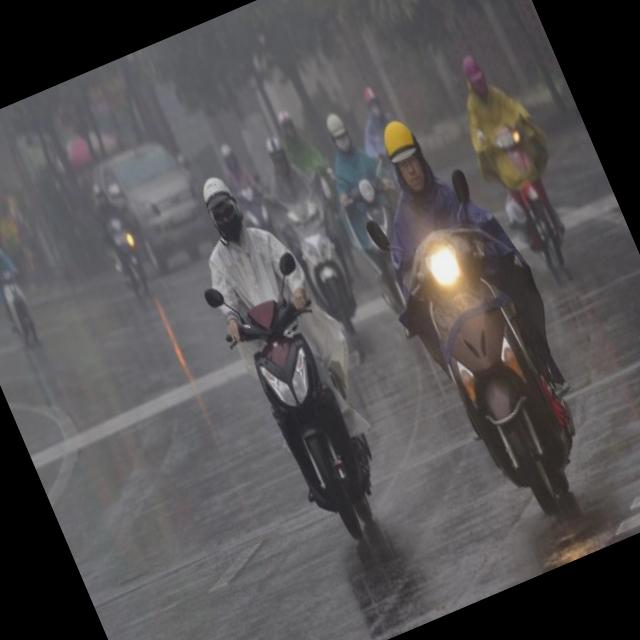Car: (84, 119, 237, 288)
Motobike: (357, 159, 580, 521), (199, 241, 376, 545), (458, 97, 598, 292), (263, 177, 387, 353), (324, 152, 444, 314), (81, 184, 172, 306), (226, 168, 302, 286), (0, 256, 54, 362)
